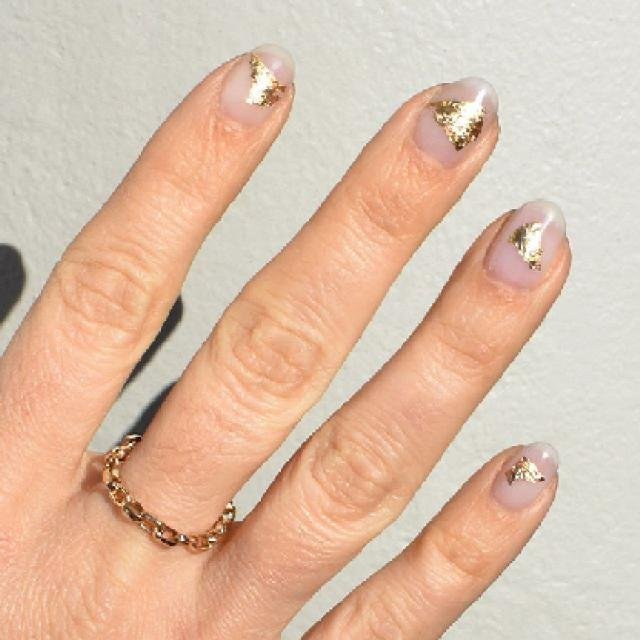Nail: (414, 80, 498, 168), (484, 201, 567, 290), (220, 49, 300, 123), (492, 444, 558, 508)
